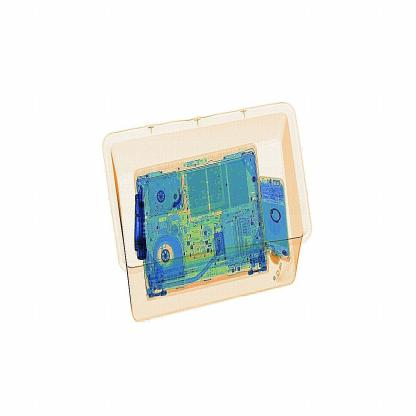pliers: (134, 189, 150, 265)
